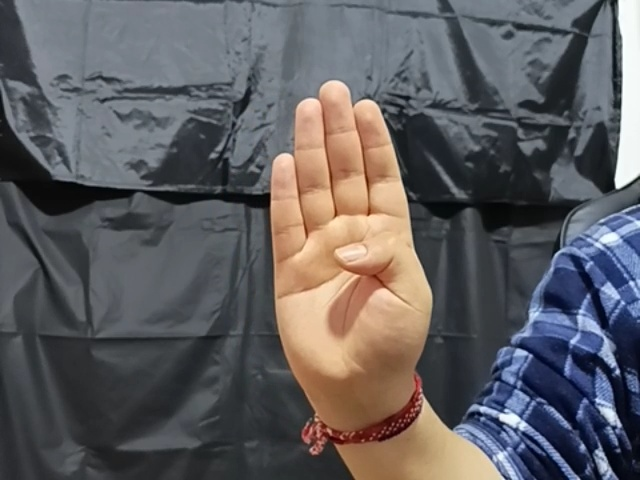B: (262, 77, 436, 410)
